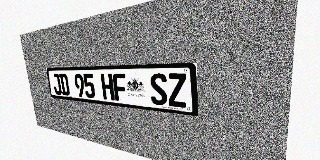5: (83, 74, 96, 98)
9: (73, 74, 86, 97)
D: (59, 74, 70, 96)
F: (112, 73, 128, 102)
H: (100, 73, 115, 100)
J: (52, 74, 62, 95)
S: (149, 73, 168, 106)
Z: (167, 73, 187, 108)
